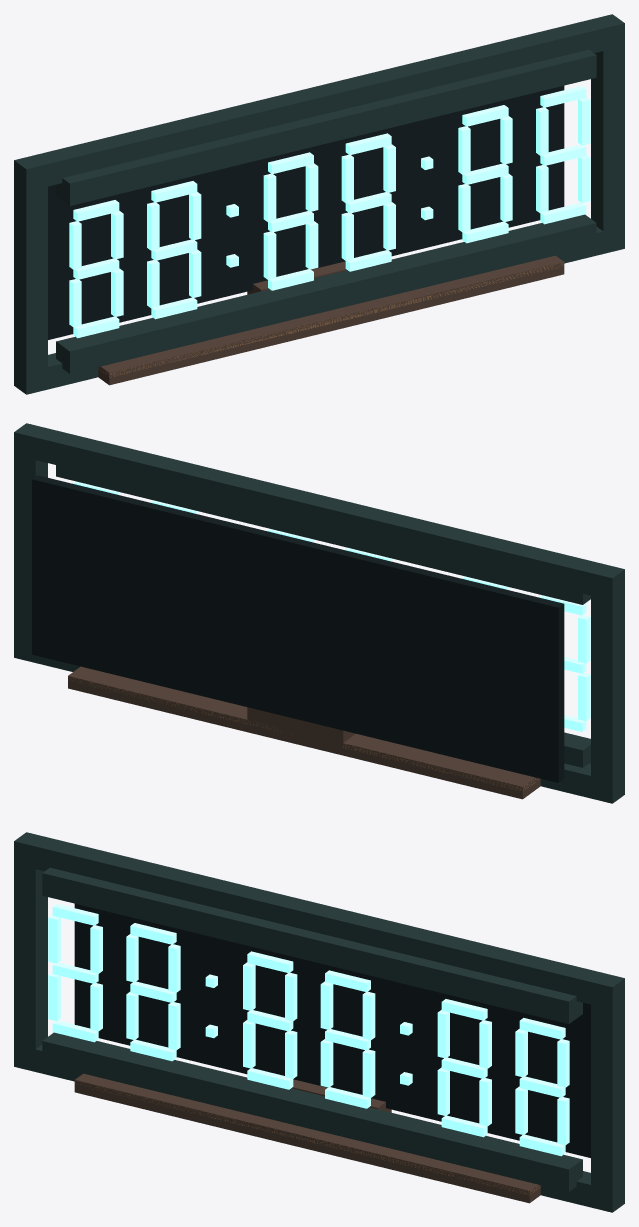
3 views of the same model, one above another, from view 1: azimuth 30°, elevation 25°; view 2: azimuth 150°, elevation 25°; view 3: azimuth 330°, elevation 25° (orthographic).
Parts seen in each view (by area): view 1: digital-display-back, digital-groove-bottom, digital-frame-top, digital-groove-top, clock-base, digital-frame-left, digital-frame-right, digital-frame-bottom, clock-base-trim, clock-digit-3-f, clock-digit-3-e, clock-digit-3-b (+39 smaller); view 2: digital-display-back, digital-frame-top, clock-base, digital-groove-top, digital-frame-left, digital-frame-right, digital-frame-bottom, clock-display-support, clock-base-trim, digital-groove-bottom, clock-digit-1-f, clock-digit-1-e; view 3: digital-display-back, digital-groove-bottom, digital-frame-top, digital-groove-top, clock-base, digital-frame-right, digital-frame-left, digital-frame-bottom, clock-base-trim, clock-digit-4-b, clock-digit-4-c, clock-digit-4-f (+39 smaller).
Part boxes in pixels (x1=…): digital-display-back: x1=48, y1=85, x2=564, y2=339; digital-groove-bottom: x1=56, y1=214, x2=596, y2=373; digital-frame-top: x1=14, y1=14, x2=624, y2=191; digital-groove-top: x1=56, y1=49, x2=596, y2=205; clock-base: x1=98, y1=255, x2=564, y2=385; digital-frame-left: x1=14, y1=183, x2=47, y2=372; digital-frame-right: x1=591, y1=46, x2=624, y2=231; digital-frame-bottom: x1=14, y1=226, x2=624, y2=394; clock-base-trim: x1=98, y1=262, x2=563, y2=377; clock-digit-3-f: x1=263, y1=173, x2=276, y2=222; clock-digit-3-e: x1=263, y1=231, x2=276, y2=279; clock-digit-3-b: x1=305, y1=163, x2=318, y2=211; digital-display-back: x1=32, y1=475, x2=564, y2=782; digital-frame-top: x1=14, y1=423, x2=624, y2=600; clock-base: x1=68, y1=666, x2=540, y2=799; digital-groove-top: x1=56, y1=465, x2=590, y2=604; digital-frame-left: x1=591, y1=592, x2=624, y2=781; digital-frame-right: x1=14, y1=455, x2=47, y2=639; digital-frame-bottom: x1=14, y1=635, x2=624, y2=803; clock-display-support: x1=247, y1=707, x2=355, y2=749; clock-base-trim: x1=68, y1=676, x2=538, y2=790; digital-groove-bottom: x1=564, y1=732, x2=590, y2=767; clock-digit-1-f: x1=578, y1=615, x2=590, y2=663; clock-digit-1-e: x1=578, y1=673, x2=590, y2=720; digital-display-back: x1=74, y1=903, x2=590, y2=1157; digital-groove-bottom: x1=42, y1=1032, x2=582, y2=1191; digital-frame-top: x1=14, y1=832, x2=624, y2=1009; digital-groove-top: x1=42, y1=867, x2=582, y2=1023; clock-base: x1=74, y1=1073, x2=540, y2=1203; digital-frame-right: x1=591, y1=1001, x2=624, y2=1190; digital-frame-left: x1=14, y1=864, x2=47, y2=1049; digital-frame-bottom: x1=14, y1=1044, x2=624, y2=1212; clock-base-trim: x1=75, y1=1080, x2=540, y2=1195; clock-digit-4-b: x1=362, y1=991, x2=375, y2=1040; clock-digit-4-c: x1=362, y1=1049, x2=375, y2=1097; clock-digit-4-f: x1=320, y1=981, x2=333, y2=1029.
Size of the model in its own units: 0.5 by 0.18 by 0.06.
